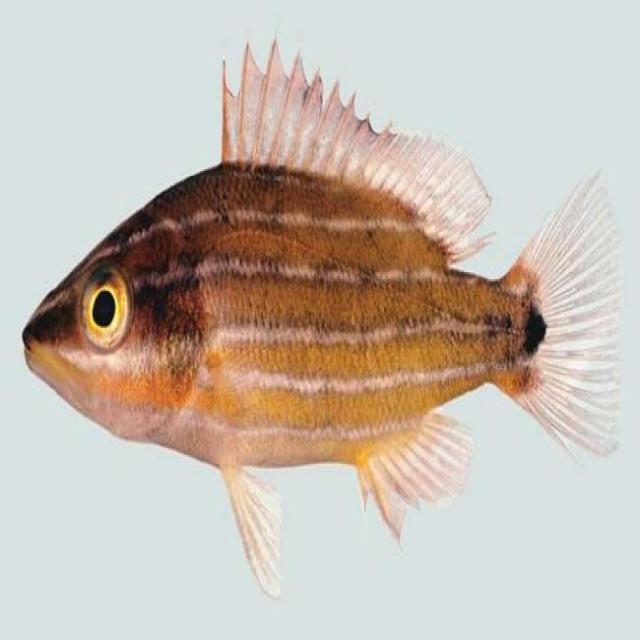ikan: (21, 33, 623, 600)
